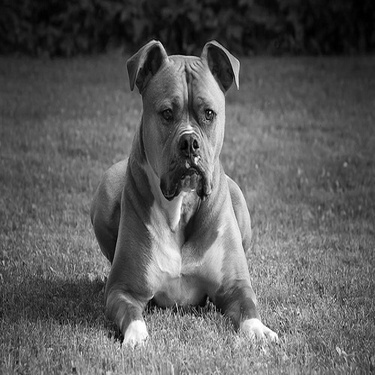dog: (80, 34, 283, 352)
